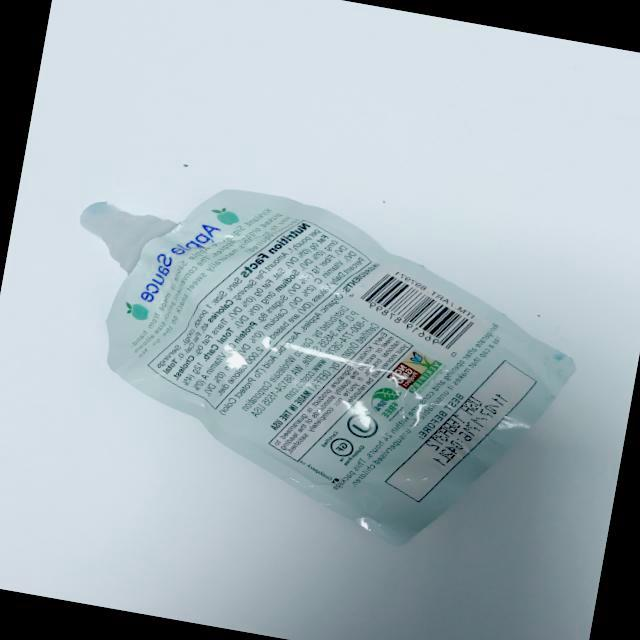plastic: (19, 132, 616, 581)
